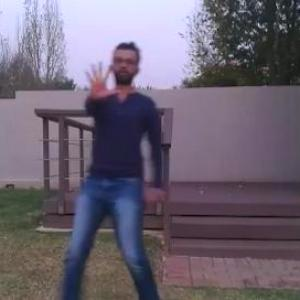follow_hand: (82, 61, 121, 100)
